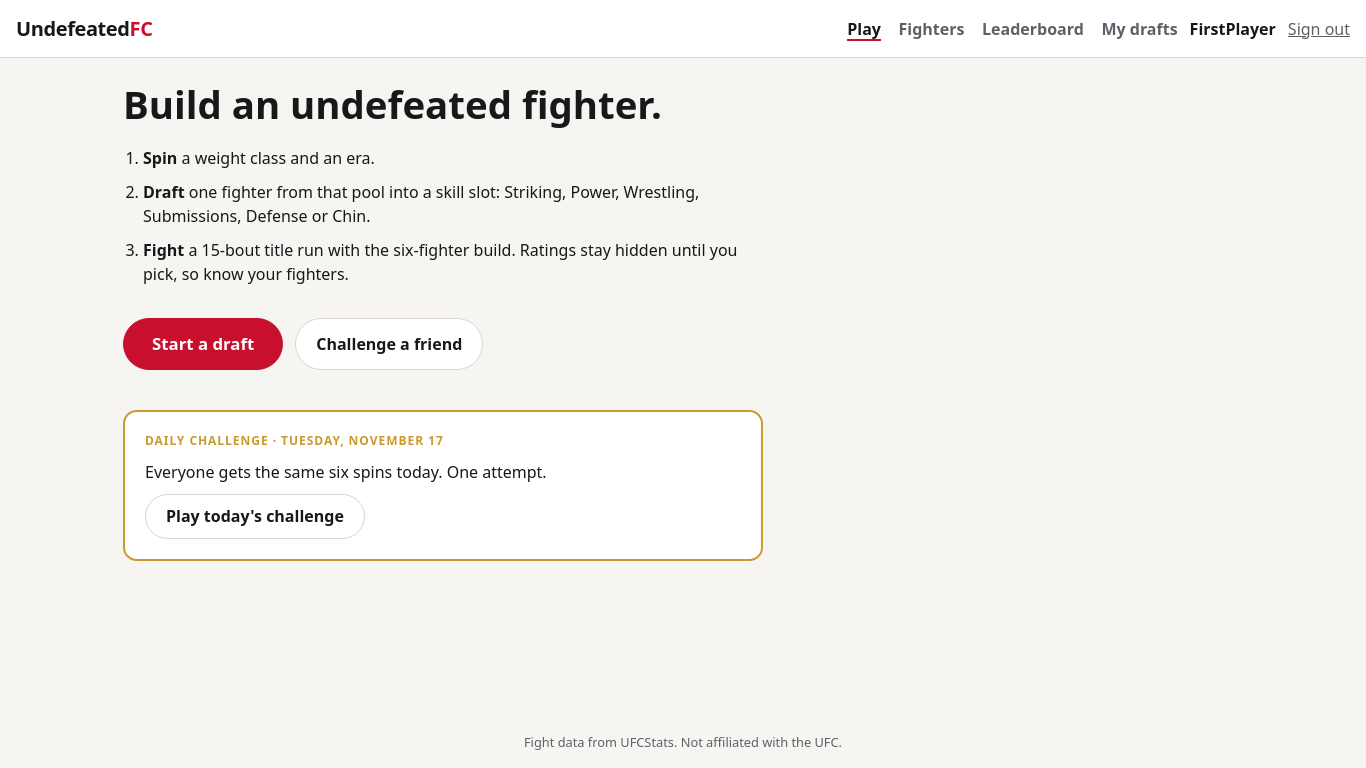
Scenario: a signed-in player can sign out from the header
This screenshot has width=1366, height=768.
Click the button "Sign out": (1319, 29) [1288,17,1350,41]
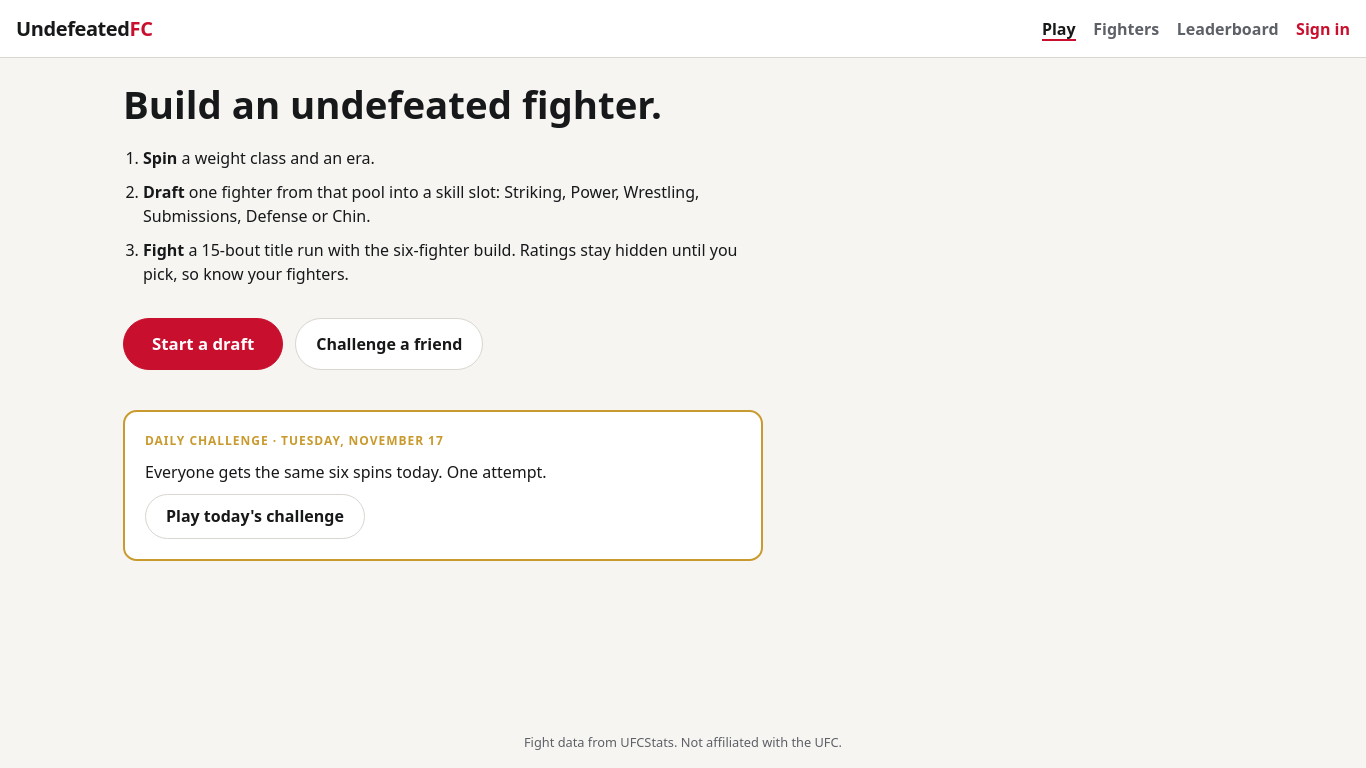
Result: the link "Sign in" is shown at [1296,17,1350,41]
